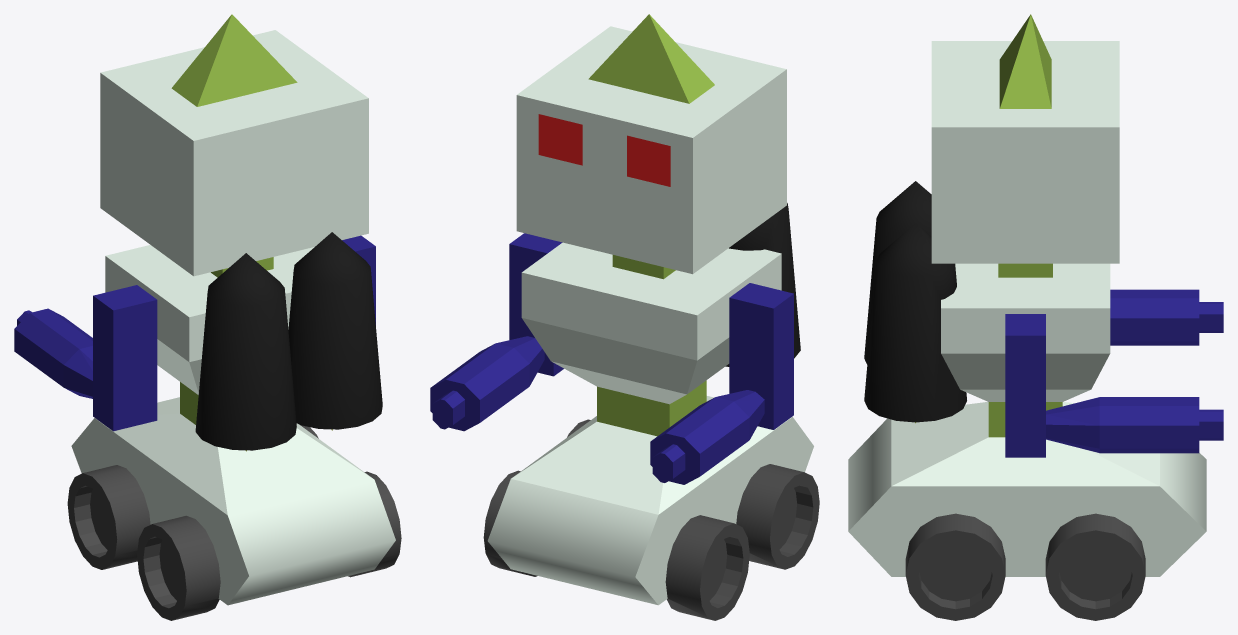
Rendered from type_卍.FBX.
3 views of the same model, side by side, from view 1: azimuth 30°, elevation 25°; view 2: azimuth 150°, elevation 25°; view 3: azimuth 270°, elevation 25° (orthographic).
Visible parts, largest first — view 1: type_αBody; view 2: type_αBody; view 3: type_αBody.
Boxes of the visible parts, left/top/right/bottom form: type_αBody: left=14, top=14, right=401, bottom=620; type_αBody: left=430, top=14, right=819, bottom=620; type_αBody: left=848, top=14, right=1223, bottom=620.
Bounding box in the file's own units: 12.28 × 24.07 × 14.78.
